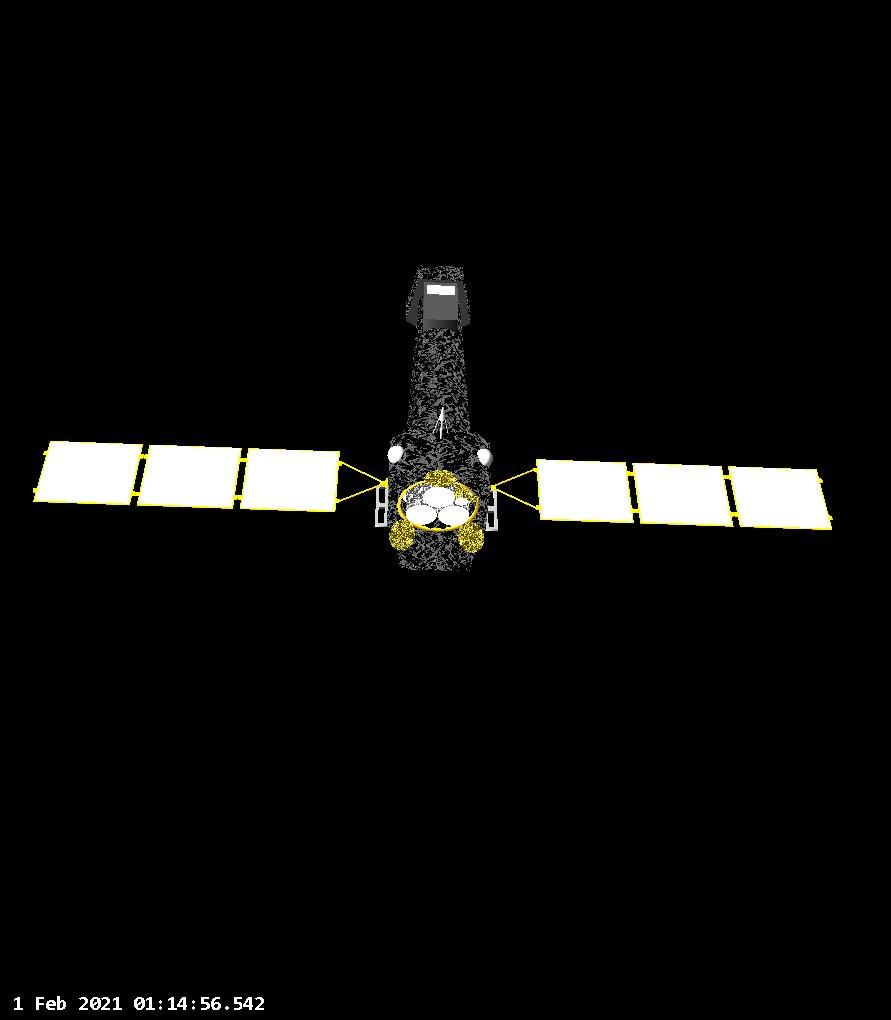antenna: (423, 486, 455, 509), (406, 504, 438, 525), (437, 506, 469, 526), (454, 497, 468, 507)
body: (390, 261, 494, 576)
solar: (32, 437, 394, 518), (494, 454, 836, 533)
